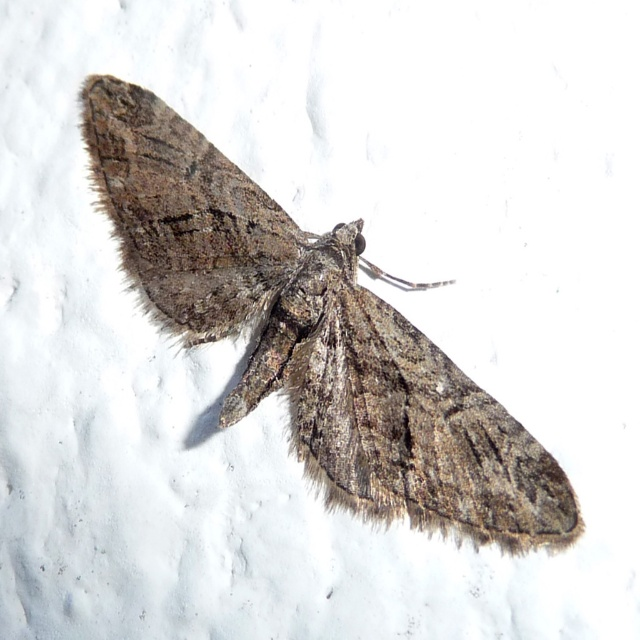Moths and butterflies: (77, 74, 590, 558)
